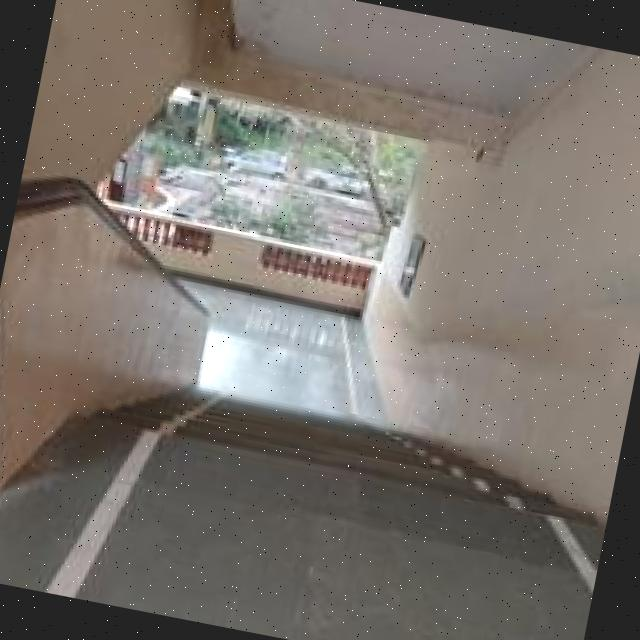stairs: (0, 215, 639, 619)
